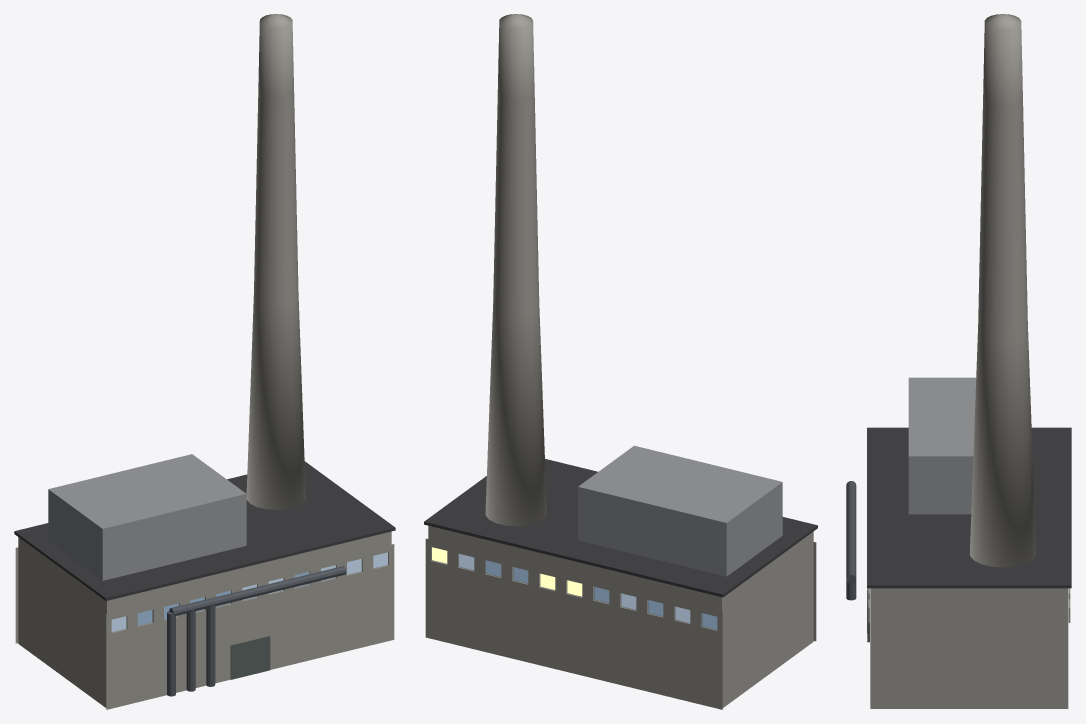
The model's file is chp_plant.glb.
3 renders of one model, left to right at view 1: azimuth 30°, elevation 25°; view 2: azimuth 150°, elevation 25°; view 3: azimuth 270°, elevation 25°, orthographic. The views are drawn at different scales.
Parts seen in each view (by area): view 1: facade_front, stack, boiler_hall, mass, roof, pipe_h, gate, pipe.001, pipe.002, pipe; view 2: facade_back, stack, boiler_hall, mass, roof; view 3: stack, mass, roof, boiler_hall, pipe_h.
Part boxes in pixels (bbox=[...]): facade_front: bbox=[106, 544, 394, 709]; stack: bbox=[246, 14, 305, 509]; boiler_hall: bbox=[48, 454, 246, 580]; mass: bbox=[18, 531, 391, 707]; roof: bbox=[14, 461, 395, 600]; pipe_h: bbox=[169, 566, 346, 615]; gate: bbox=[230, 636, 270, 679]; pipe.001: bbox=[186, 609, 195, 691]; pipe.002: bbox=[206, 605, 215, 686]; pipe: bbox=[167, 611, 175, 696]; facade_back: bbox=[425, 538, 722, 709]; stack: bbox=[485, 14, 546, 526]; boiler_hall: bbox=[578, 445, 782, 576]; mass: bbox=[428, 525, 813, 707]; roof: bbox=[424, 459, 817, 597]; stack: bbox=[970, 14, 1035, 567]; mass: bbox=[870, 588, 1068, 708]; roof: bbox=[867, 427, 1071, 588]; boiler_hall: bbox=[908, 377, 976, 514]; pipe_h: bbox=[846, 481, 856, 583].
Size of what is drawn, in the model's own units: 44.3 by 87 by 26.75.
